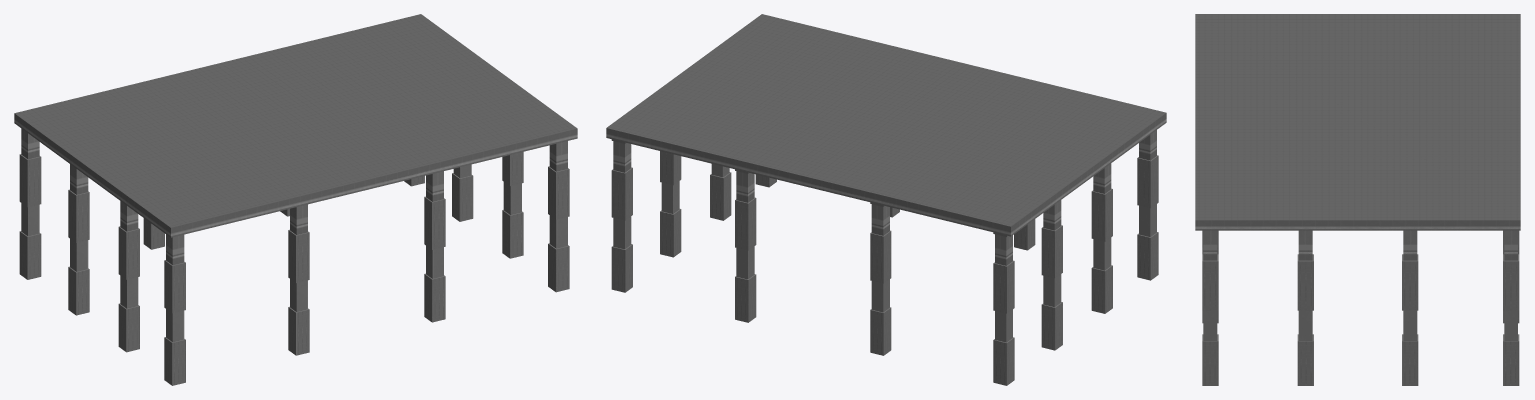
File: SM_support_module_large.glb
3 renders of one model, left to right at view 1: azimuth 30°, elevation 25°; view 2: azimuth 150°, elevation 25°; view 3: azimuth 270°, elevation 25°, orthographic. The views are drawn at different scales.
Visible parts, largest first — view 1: SM_support_module_large; view 2: SM_support_module_large; view 3: SM_support_module_large.
Part boxes in pixels (x1,y1,x2,y2): SM_support_module_large: (14, 14, 577, 385); SM_support_module_large: (606, 14, 1166, 385); SM_support_module_large: (1195, 14, 1520, 385).
Bounding box in the file's own units: 60 × 22.8 × 40.
2 materials, 2 textured.
